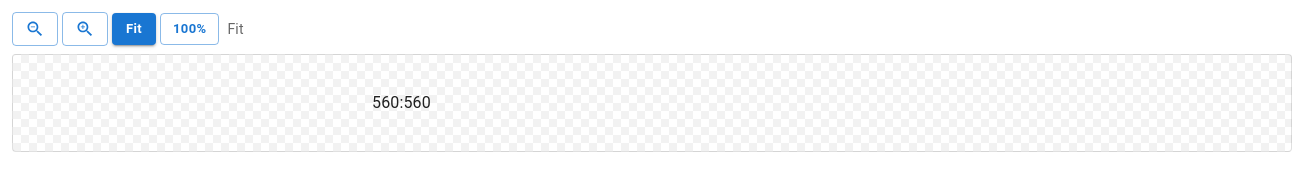
SharePreviewStage › zoom › steps the zoom, redraws at the new size and returns to Fit
expect the message reads "Fit": met, box [228, 21, 244, 37]
Step 1. Click the button named "Zoom in" → (85, 29), box [62, 12, 108, 46]
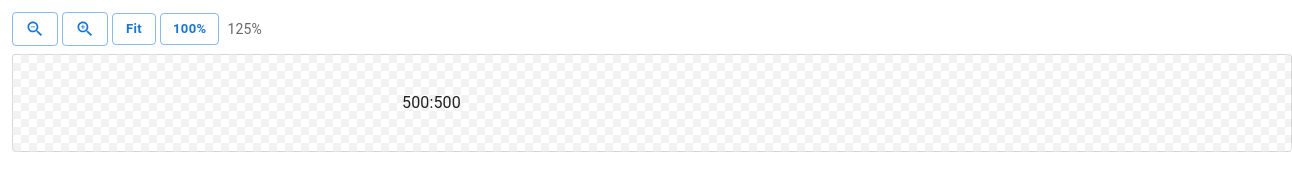
expect the message reads "125%": met, box [228, 21, 262, 37]
expect the text with test id "size" reads "500:500": met, box [402, 93, 461, 112]
Step 2. Click the button named "Zoom out" → (35, 29), box [12, 12, 58, 46]
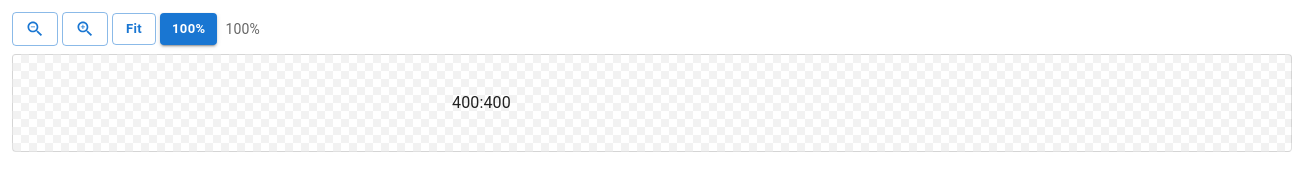
Step 3. Click the button named "Zoom out" → (35, 29), box [12, 12, 58, 46]
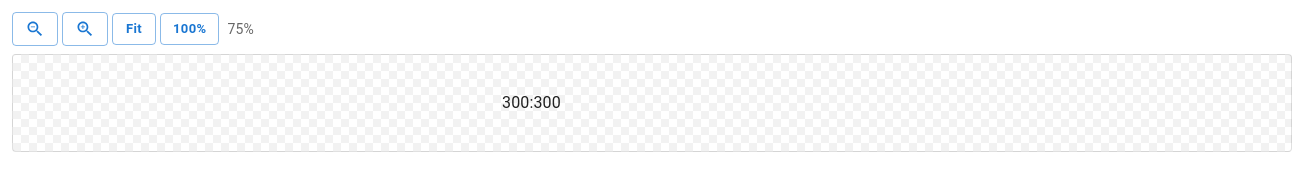
expect the message reads "75%": met, box [228, 21, 254, 37]
expect the text with test id "size" reads "300:300": met, box [502, 93, 561, 112]
Step 4. Click the button named "Zoom to 100%" → (190, 29), box [160, 13, 220, 45]
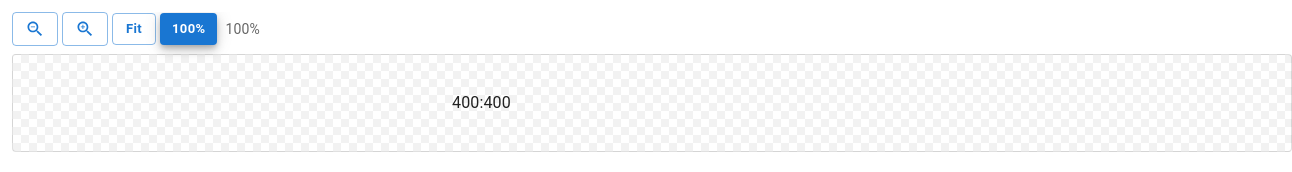
expect the message reads "100%": met, box [226, 21, 260, 37]
Step 5. Click the button with aria-label "Fit to width" → (134, 29), box [112, 13, 156, 45]
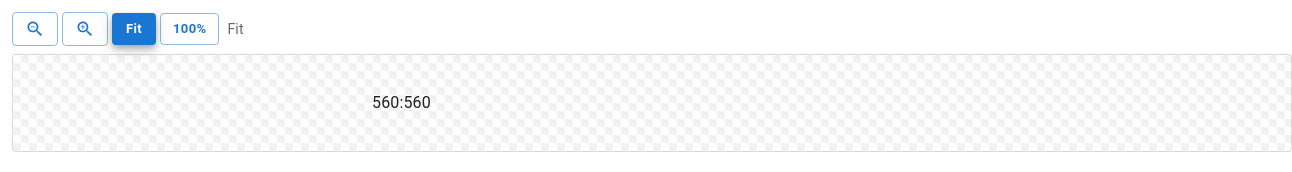
expect the text with test id "size" reads "560:560": met, box [372, 93, 431, 112]
